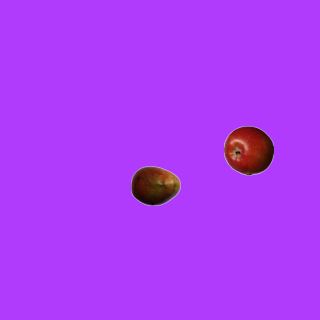Apple Braeburn: (223, 125, 273, 175)
Mango Red: (130, 160, 180, 210)
